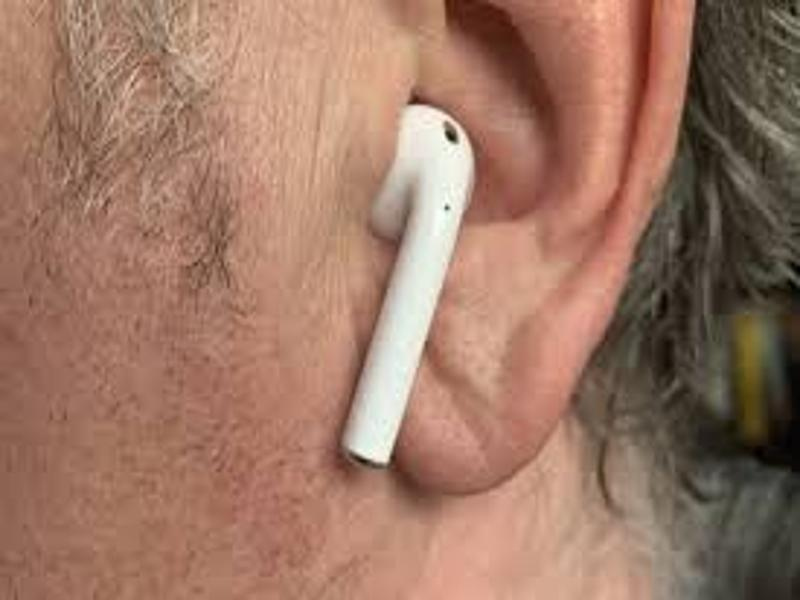headphone: (318, 100, 479, 473)
